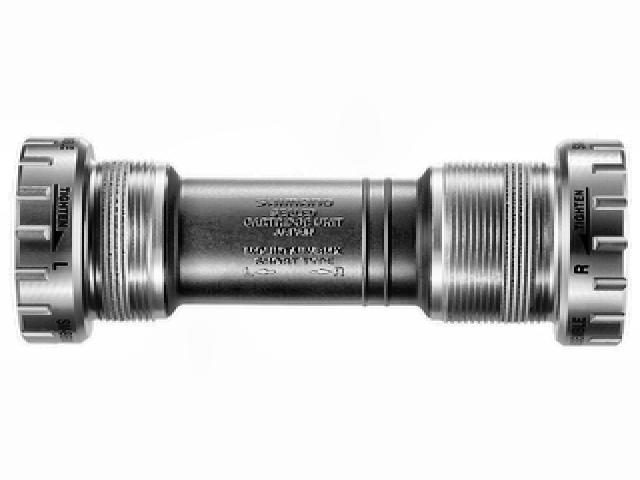bottom_bracket: (11, 129, 629, 349)
